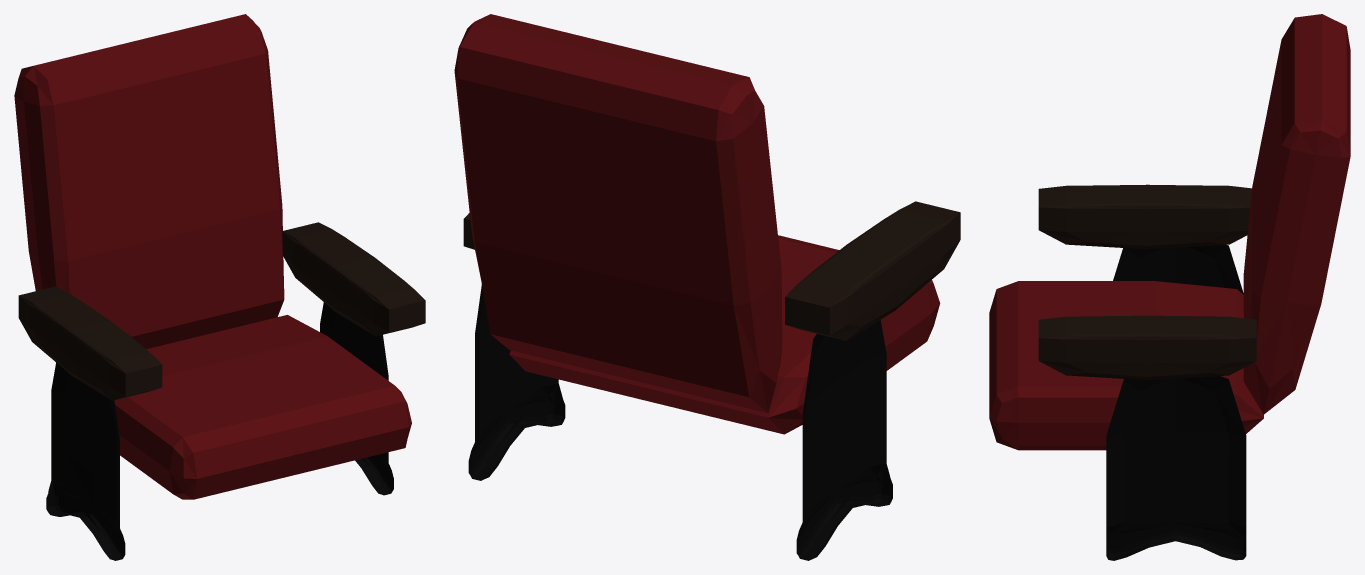
File: Seat.obj
The picture shows the model from 3 angles, left to right: view 1: azimuth 30°, elevation 25°; view 2: azimuth 150°, elevation 25°; view 3: azimuth 270°, elevation 25°; orthographic projection. The views are drawn at different scales.
Visible parts, largest first — view 1: Cube.005_Cube.006; view 2: Cube.005_Cube.006; view 3: Cube.005_Cube.006.
Boxes of the visible parts, x1,y1,x2,y2 form: Cube.005_Cube.006: (14,14,425,560); Cube.005_Cube.006: (454,14,960,560); Cube.005_Cube.006: (989,14,1350,560).
Size of the model in its own units: 3.4 by 4.39 by 3.41.
